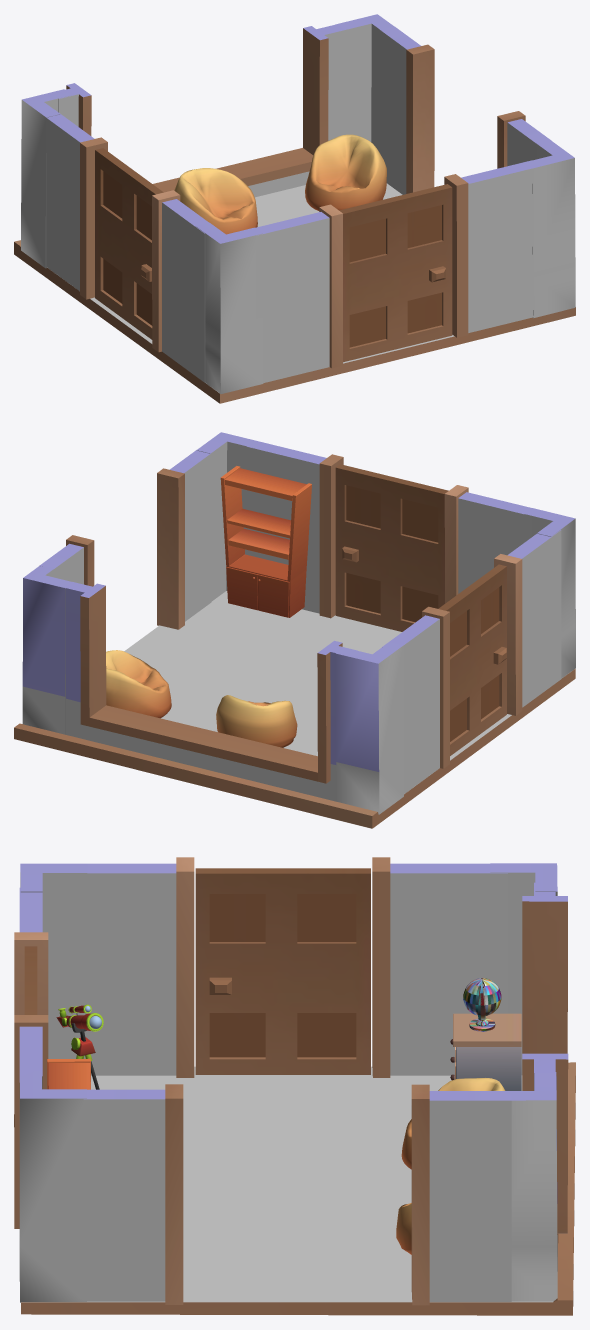
The model's file is LIBRERIA.fbx.
3 views of the same model, one above another, from view 1: azimuth 30°, elevation 25°; view 2: azimuth 150°, elevation 25°; view 3: azimuth 270°, elevation 25° (orthographic). The views are drawn at different scales.
Visible parts, largest first — view 1: paret_puerta53, paret_puerta60, puerta41, paret_con_ventana_grande27, puerta38, paret_esquina_96, paret_con_borde18, paret_esquina_101, suelo16, puf8, paret_esquina_93, paret_esquina_97 (+3 smaller); view 2: suelo16, paret_con_ventana_grande27, paret_puerta60, puerta41, paret_puerta53, paret_esquina_93, mueble_estanteria3, puerta38, paret_con_borde20, paret_esquina_97, fombra15, puf8 (+4 smaller); view 3: suelo16, paret_puerta60, puerta38, paret_con_borde18, paret_con_borde20, paret_esquina_101, fombra15, paret_con_ventana_grande27, paret_esquina_97, paret_esquina_96, paret_puerta53, mueble5 (+6 smaller).
Part boxes in pixels (x1,y1,x2,y2): paret_puerta53: (255, 160, 541, 382); paret_puerta60: (46, 110, 208, 382); puerta41: (339, 184, 452, 362); paret_con_ventana_grande27: (58, 24, 344, 197); puerta38: (95, 148, 163, 339); paret_esquina_96: (195, 222, 263, 393); paret_con_borde18: (380, 26, 434, 194); paret_esquina_101: (524, 140, 575, 318); suelo16: (14, 183, 575, 403); puf8: (305, 134, 386, 210); paret_esquina_93: (21, 89, 71, 268); paret_esquina_97: (335, 14, 393, 152); suelo16: (14, 591, 575, 828); paret_con_ventana_grande27: (64, 582, 357, 801); paret_puerta60: (382, 530, 561, 793); puerta41: (335, 464, 448, 631); paret_puerta53: (246, 440, 532, 618); paret_esquina_93: (335, 642, 403, 814); mueble_estanteria3: (220, 466, 311, 617); puerta38: (438, 564, 506, 755); paret_con_borde20: (157, 450, 211, 629); paret_esquina_97: (22, 566, 71, 734); fombra15: (148, 657, 317, 748); puf8: (106, 650, 171, 718); suelo16: (21, 1062, 575, 1315); paret_puerta60: (86, 857, 507, 1077); puerta38: (195, 868, 370, 1074); paret_con_borde18: (411, 1084, 511, 1305); paret_con_borde20: (83, 1084, 183, 1304); paret_esquina_101: (19, 1070, 86, 1302); fombra15: (295, 1139, 411, 1265); paret_con_ventana_grande27: (522, 882, 568, 1233); paret_esquina_97: (503, 1072, 557, 1301); paret_esquina_96: (20, 863, 87, 1058); paret_puerta53: (14, 887, 48, 1228); mueble5: (450, 978, 521, 1090).
Bounding box in the file's own units: 841 × 360 × 832.
